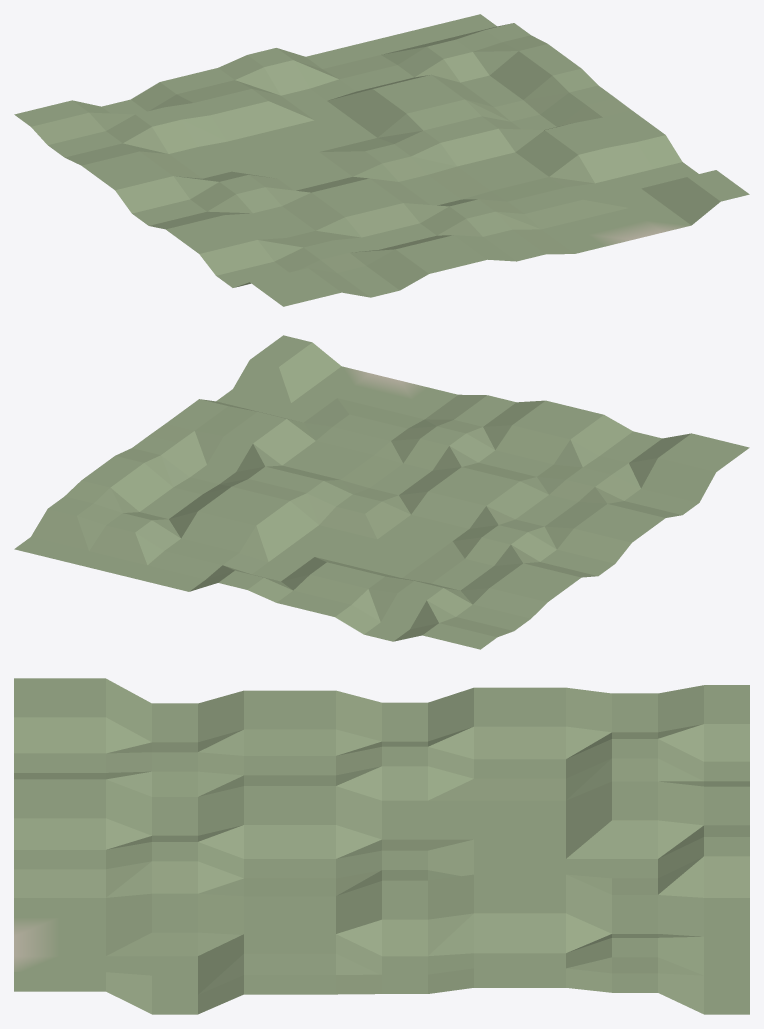
3 views of the same model, one above another, from view 1: azimuth 30°, elevation 25°; view 2: azimuth 150°, elevation 25°; view 3: azimuth 270°, elevation 25° (orthographic). The views are drawn at different scales.
Size of the model in its own units: 32 by 1.28 by 32.
